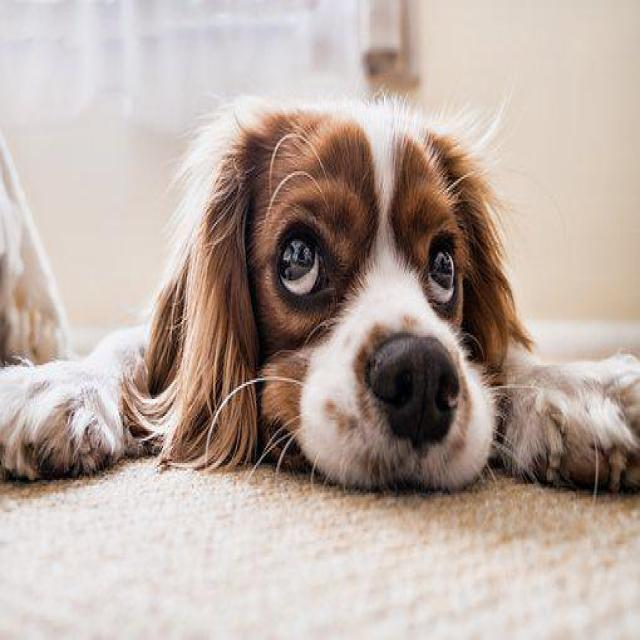Dog: (67, 46, 638, 544)
